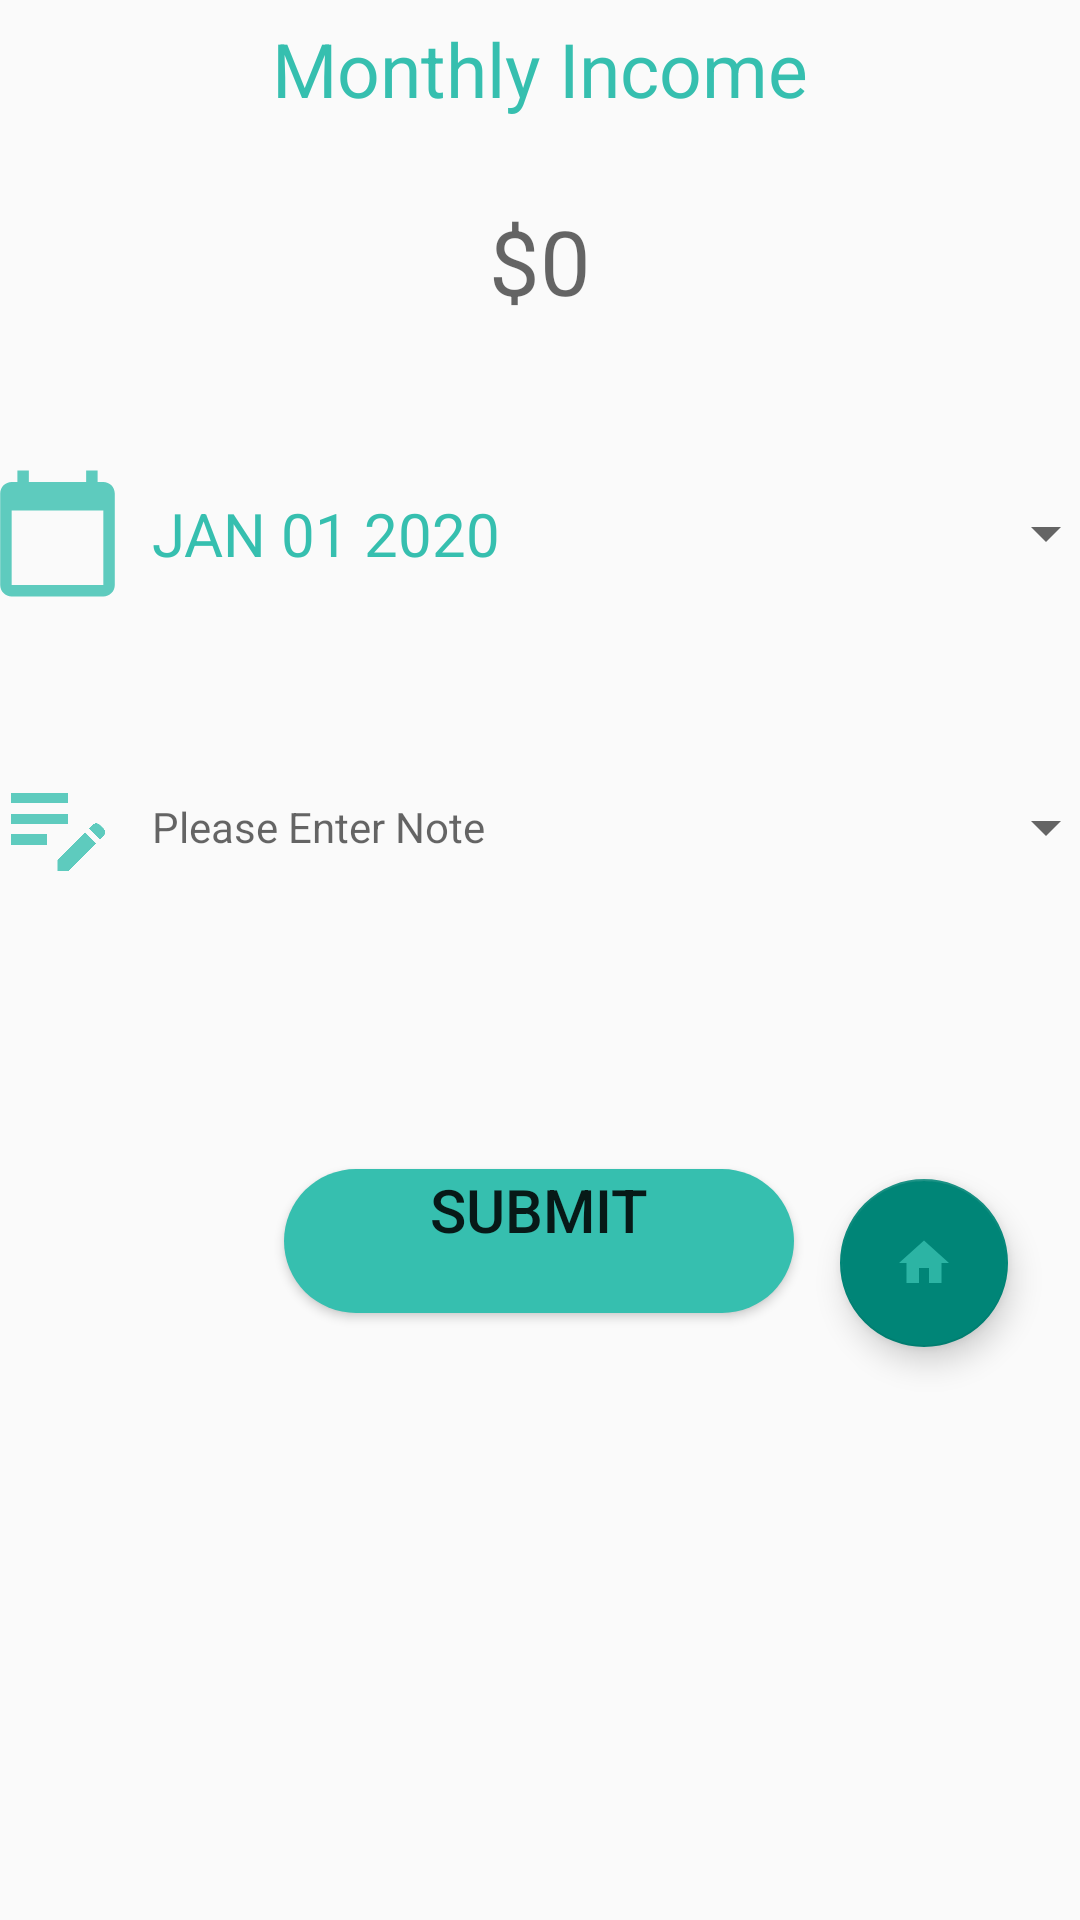

Where icons sit on this 1080×1920 app screen, as detection(x1, y1, x2, y2):
home: detection(840, 1179, 1008, 1347)
